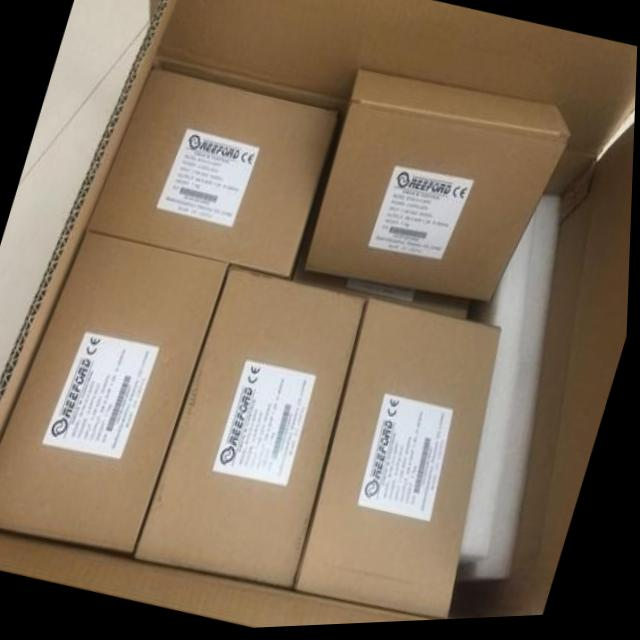box: (0, 0, 638, 630), (135, 266, 369, 593), (0, 231, 233, 558), (297, 302, 505, 624), (304, 70, 572, 306), (88, 70, 342, 281), (294, 271, 475, 324)
